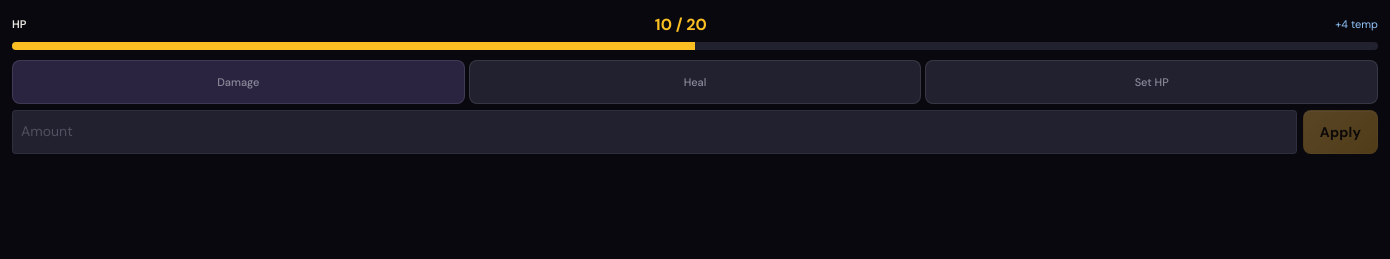
Test: cancels a rejected unpaid adjustment with the server receipt
This screenshot has width=1390, height=259.
Type "6" into the number field named "HP amount".
click(654, 132); type("6")  # box [12,110,1297,154]
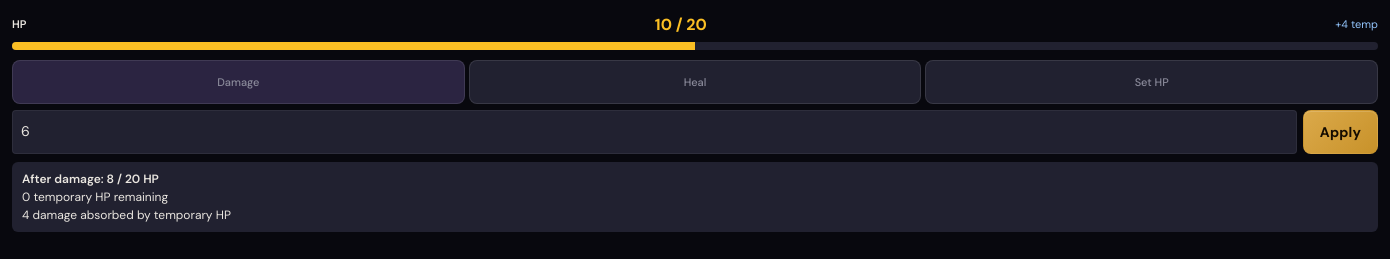
Click the button "Apply".
click(1340, 132)  # box [1303,110,1378,154]
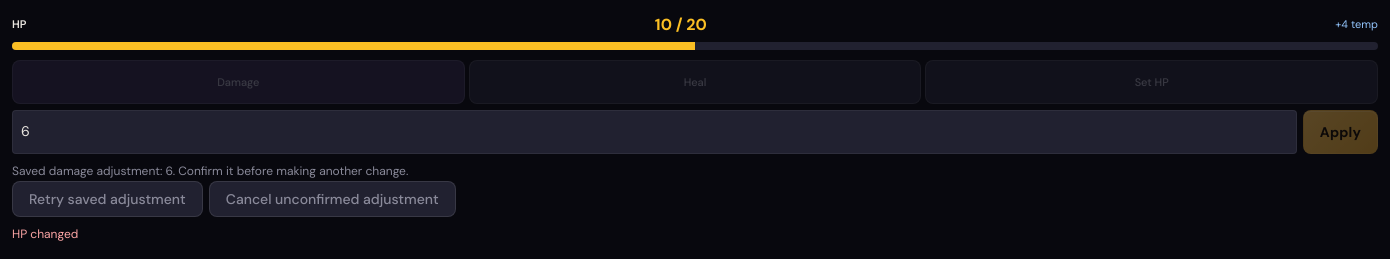
Check: the text "HP changed" is shown, box [12,226,78,242]
Click the button "Cancel unconfirmed adjustment".
click(332, 199)  # box [209,181,456,217]
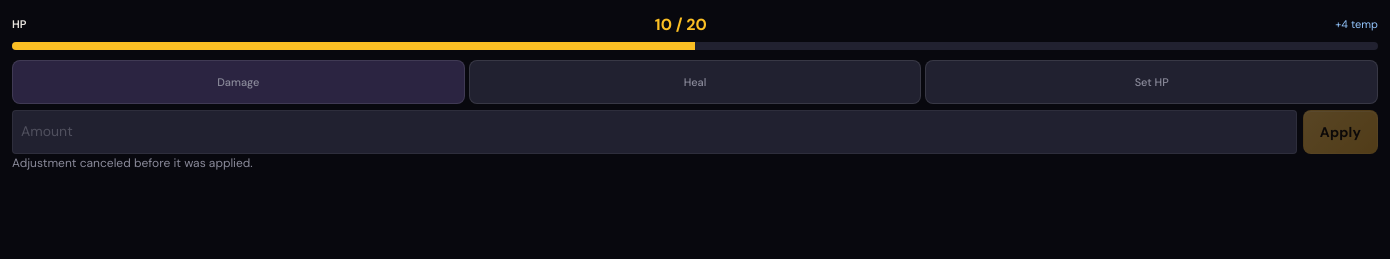
Check: the text "10 / 20" is shown, box [655,12,707,38]
Check: the text "Adjustment canceled before it was applied." is shown, box [12,155,253,171]
